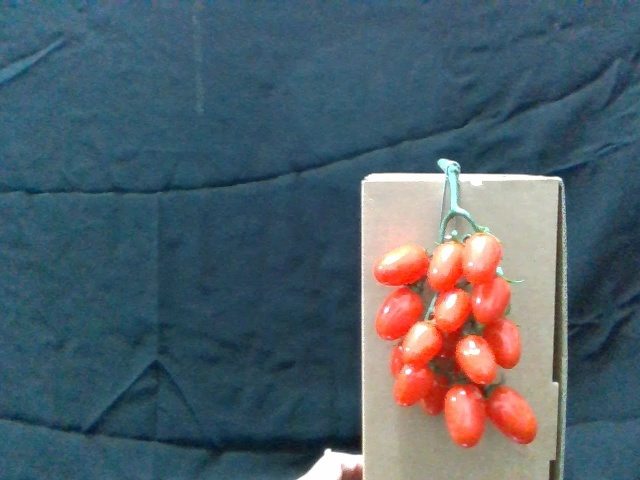tomato: (485, 386, 539, 446), (444, 385, 487, 448), (373, 288, 423, 339), (455, 331, 498, 387), (427, 239, 467, 294), (483, 316, 522, 372), (376, 246, 429, 286), (471, 273, 511, 326), (463, 232, 505, 280), (400, 324, 442, 369), (432, 288, 472, 335), (397, 361, 436, 407)
